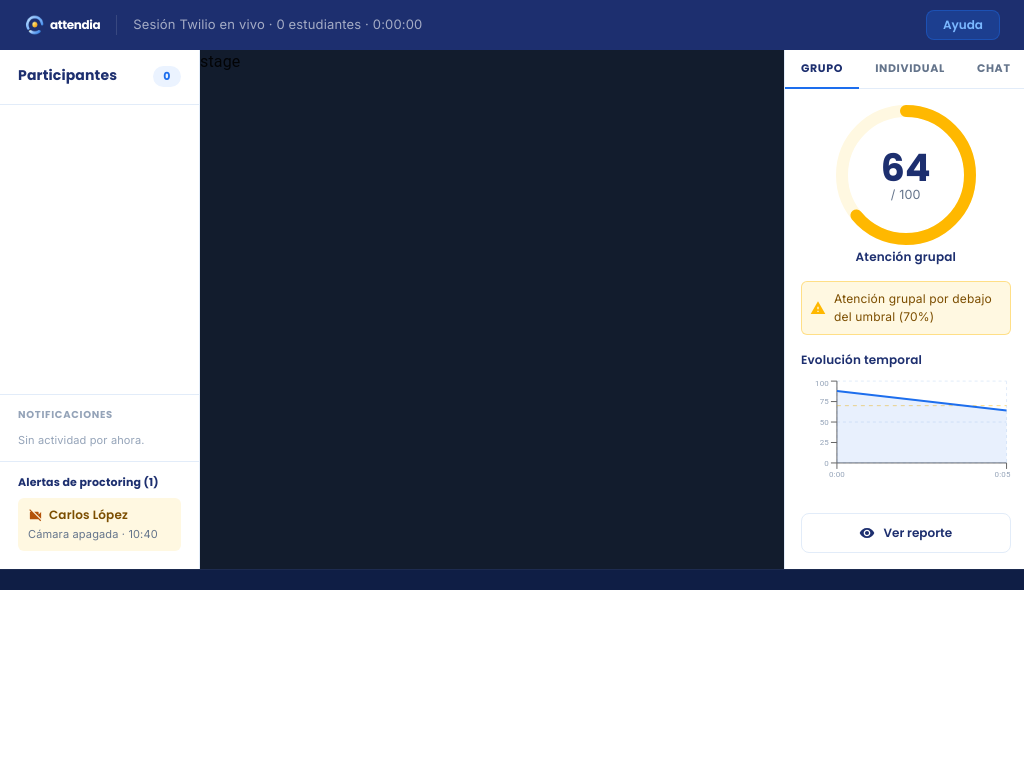
ProfessorRoomShell › shows camera-off copy in the proctoring modal for a camera-off alert
expect the element with test id "professor-room-shell-proctoring-feed" shows "Cámara apagada": met, box [28, 527, 119, 541]
Click the button "Carlos López Cámara apagada · 10:40". click: (100,524)
box: [18, 498, 181, 551]
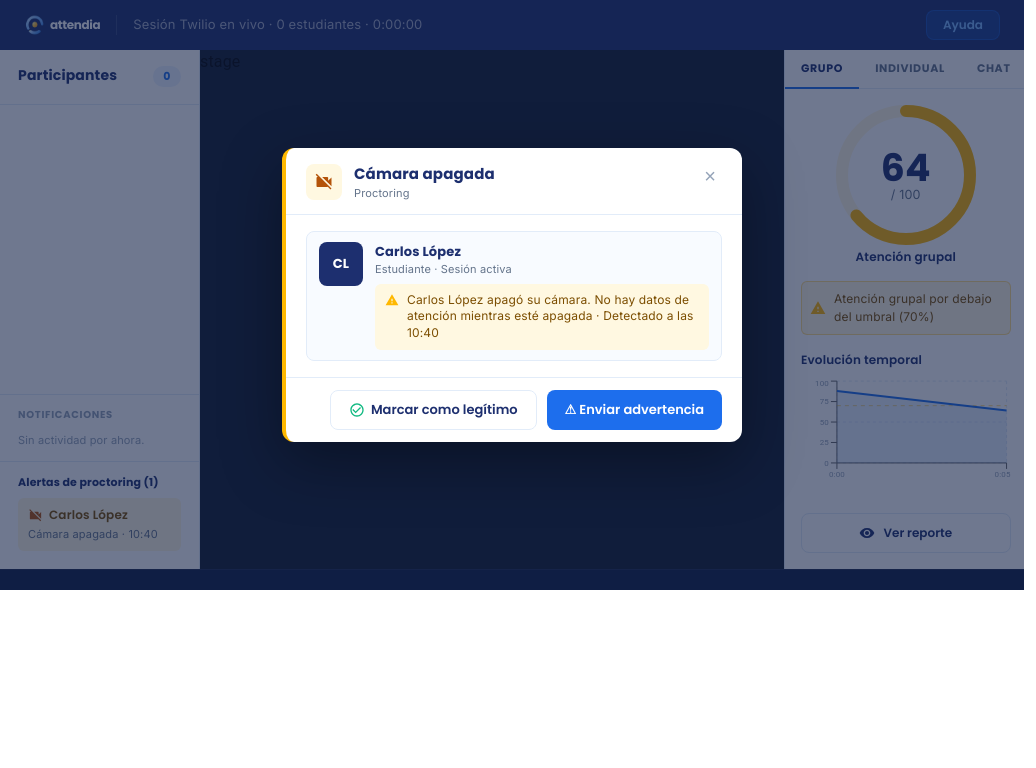
expect the element with test id "professor-proctoring-modal" is shown: met
expect the element with test id "professor-proctoring-modal" shows "Cámara apagada": met, box [354, 163, 495, 184]
